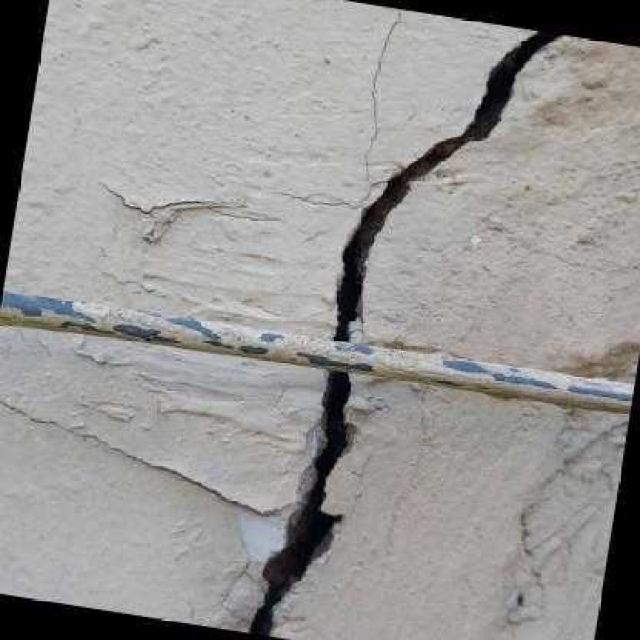D00: (320, 29, 577, 341), (0, 394, 282, 518), (238, 370, 359, 638), (356, 7, 403, 173)
